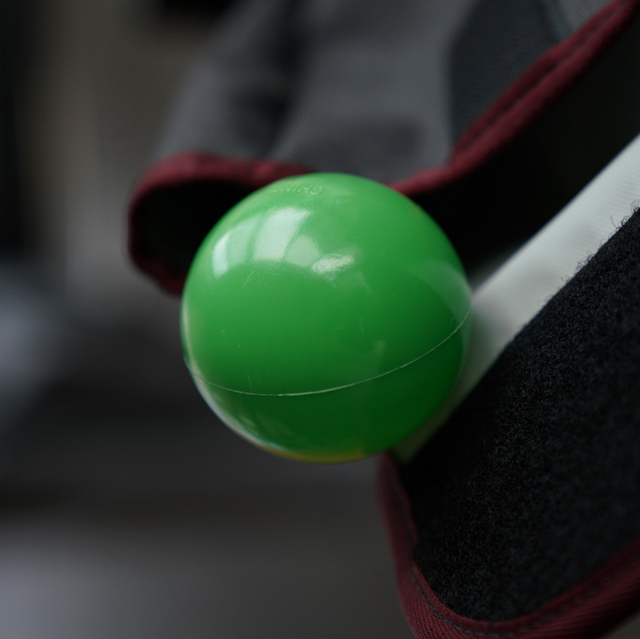Ball: (175, 171, 476, 464)
